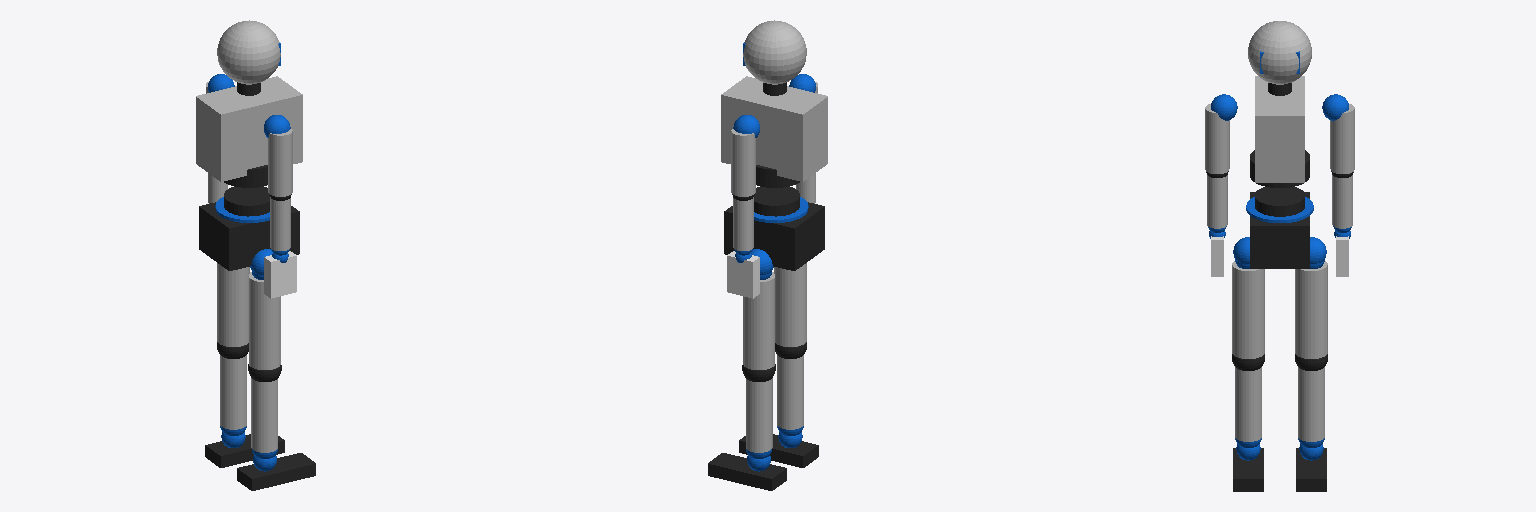
robot.urdf — simple_humanoid:
<?xml version="1.0"?>
<!--
  simple_humanoid — lightweight primitive-geometry humanoid robot
  Structure mirrors Unitree G1: pelvis → legs(6-DOF×2) → waist(2-DOF) → torso → arms(6-DOF×2) → head
  Uses only box / cylinder / sphere primitives — no external mesh files.
  ~27 revolute joints, ~1.62 m standing height (ROS z-up convention).
-->
<robot name="simple_humanoid">

  <!-- ================================================================== -->
  <!-- MATERIALS                                                            -->
  <!-- ================================================================== -->
  <material name="dark">   <color rgba="0.20 0.20 0.20 1.0"/></material>
  <material name="silver"> <color rgba="0.75 0.75 0.75 1.0"/></material>
  <material name="blue">   <color rgba="0.10 0.45 0.85 1.0"/></material>
  <material name="white">  <color rgba="0.92 0.92 0.92 1.0"/></material>
  <material name="red">    <color rgba="0.85 0.20 0.20 1.0"/></material>

  <!-- ================================================================== -->
  <!-- ROOT: PELVIS                                                         -->
  <!-- ================================================================== -->
  <link name="pelvis">
    <inertial>
      <origin xyz="0 0 0" rpy="0 0 0"/>
      <mass value="4.5"/>
      <inertia ixx="0.012" ixy="0" ixz="0" iyy="0.011" iyz="0" izz="0.010"/>
    </inertial>
    <visual>
      <origin xyz="0 0 0" rpy="0 0 0"/>
      <geometry><box size="0.24 0.18 0.14"/></geometry>
      <material name="dark"/>
    </visual>
    <collision>
      <origin xyz="0 0 0"/>
      <geometry><box size="0.24 0.18 0.14"/></geometry>
    </collision>
  </link>

  <!-- pelvis decorative band (fixed) -->
  <link name="pelvis_contour_link">
    <inertial><origin xyz="0 0 0"/><mass value="0.001"/>
      <inertia ixx="1e-7" ixy="0" ixz="0" iyy="1e-7" iyz="0" izz="1e-7"/>
    </inertial>
    <visual>
      <origin xyz="0 0 0.075" rpy="0 0 0"/>
      <geometry><cylinder radius="0.10" length="0.01"/></geometry>
      <material name="blue"/>
    </visual>
  </link>
  <joint name="pelvis_contour_joint" type="fixed">
    <parent link="pelvis"/><child link="pelvis_contour_link"/>
  </joint>

  <!-- ================================================================== -->
  <!-- LEFT LEG                                                             -->
  <!-- ================================================================== -->

  <!-- hip pitch -->
  <link name="left_hip_pitch_link">
    <inertial><origin xyz="0 0 0"/><mass value="0.8"/>
      <inertia ixx="5e-4" ixy="0" ixz="0" iyy="5e-4" iyz="0" izz="5e-4"/>
    </inertial>
    <visual>
      <origin xyz="0 0 0" rpy="0 0 0"/>
      <geometry><sphere radius="0.045"/></geometry>
      <material name="blue"/>
    </visual>
  </link>
  <joint name="left_hip_pitch_joint" type="revolute">
    <origin xyz="0 0.093 -0.07" rpy="0 0 0"/>
    <parent link="pelvis"/><child link="left_hip_pitch_link"/>
    <axis xyz="0 1 0"/>
    <limit lower="-2.53" upper="2.88" effort="88" velocity="32"/>
  </joint>

  <!-- hip roll -->
  <link name="left_hip_roll_link">
    <inertial><origin xyz="0 0 0"/><mass value="0.6"/>
      <inertia ixx="3e-4" ixy="0" ixz="0" iyy="3e-4" iyz="0" izz="3e-4"/>
    </inertial>
    <visual>
      <origin xyz="0 0 0" rpy="0 0 0"/>
      <geometry><sphere radius="0.040"/></geometry>
      <material name="blue"/>
    </visual>
  </link>
  <joint name="left_hip_roll_joint" type="revolute">
    <origin xyz="0 0 -0.02" rpy="0 0 0"/>
    <parent link="left_hip_pitch_link"/><child link="left_hip_roll_link"/>
    <axis xyz="1 0 0"/>
    <limit lower="-0.52" upper="2.35" effort="88" velocity="32"/>
  </joint>

  <!-- hip yaw + thigh cylinder -->
  <link name="left_hip_yaw_link">
    <inertial><origin xyz="0 0 -0.14"/><mass value="1.5"/>
      <inertia ixx="0.0022" ixy="0" ixz="0" iyy="0.0022" iyz="0" izz="5e-4"/>
    </inertial>
    <visual>
      <origin xyz="0 0 -0.15" rpy="0 0 0"/>
      <geometry><cylinder radius="0.048" length="0.30"/></geometry>
      <material name="silver"/>
    </visual>
  </link>
  <joint name="left_hip_yaw_joint" type="revolute">
    <origin xyz="0 0 -0.02" rpy="0 0 0"/>
    <parent link="left_hip_roll_link"/><child link="left_hip_yaw_link"/>
    <axis xyz="0 0 1"/>
    <limit lower="-2.75" upper="2.75" effort="50" velocity="32"/>
  </joint>

  <!-- knee + shin cylinder -->
  <link name="left_knee_link">
    <inertial><origin xyz="0 0 -0.13"/><mass value="1.2"/>
      <inertia ixx="0.0018" ixy="0" ixz="0" iyy="0.0018" iyz="0" izz="3e-4"/>
    </inertial>
    <visual>
      <!-- knee sphere -->
      <origin xyz="0 0 0"/>
      <geometry><sphere radius="0.050"/></geometry>
      <material name="dark"/>
    </visual>
    <visual>
      <!-- shin cylinder -->
      <origin xyz="0 0 -0.13" rpy="0 0 0"/>
      <geometry><cylinder radius="0.040" length="0.26"/></geometry>
      <material name="silver"/>
    </visual>
  </link>
  <joint name="left_knee_joint" type="revolute">
    <origin xyz="0 0 -0.30" rpy="0 0 0"/>
    <parent link="left_hip_yaw_link"/><child link="left_knee_link"/>
    <axis xyz="0 1 0"/>
    <limit lower="-0.09" upper="2.82" effort="139" velocity="20"/>
  </joint>

  <!-- ankle pitch -->
  <link name="left_ankle_pitch_link">
    <inertial><origin xyz="0 0 0"/><mass value="0.4"/>
      <inertia ixx="2e-4" ixy="0" ixz="0" iyy="2e-4" iyz="0" izz="2e-4"/>
    </inertial>
    <visual>
      <origin xyz="0 0 0"/>
      <geometry><sphere radius="0.040"/></geometry>
      <material name="blue"/>
    </visual>
  </link>
  <joint name="left_ankle_pitch_joint" type="revolute">
    <origin xyz="0 0 -0.26" rpy="0 0 0"/>
    <parent link="left_knee_link"/><child link="left_ankle_pitch_link"/>
    <axis xyz="0 1 0"/>
    <limit lower="-0.87" upper="0.52" effort="50" velocity="20"/>
  </joint>

  <!-- ankle roll + foot -->
  <link name="left_ankle_roll_link">
    <inertial><origin xyz="0.05 0 -0.04"/><mass value="0.35"/>
      <inertia ixx="2e-4" ixy="0" ixz="0" iyy="3e-4" iyz="0" izz="2e-4"/>
    </inertial>
    <visual>
      <!-- ankle joint -->
      <origin xyz="0 0 0"/>
      <geometry><sphere radius="0.036"/></geometry>
      <material name="blue"/>
    </visual>
    <visual>
      <!-- foot plate -->
      <origin xyz="0.04 0 -0.05" rpy="0 0 0"/>
      <geometry><box size="0.22 0.09 0.04"/></geometry>
      <material name="dark"/>
    </visual>
  </link>
  <joint name="left_ankle_roll_joint" type="revolute">
    <origin xyz="0 0 -0.04" rpy="0 0 0"/>
    <parent link="left_ankle_pitch_link"/><child link="left_ankle_roll_link"/>
    <axis xyz="1 0 0"/>
    <limit lower="-0.26" upper="0.26" effort="20" velocity="20"/>
  </joint>

  <!-- ================================================================== -->
  <!-- RIGHT LEG (mirror of left, y negated)                               -->
  <!-- ================================================================== -->

  <link name="right_hip_pitch_link">
    <inertial><origin xyz="0 0 0"/><mass value="0.8"/>
      <inertia ixx="5e-4" ixy="0" ixz="0" iyy="5e-4" iyz="0" izz="5e-4"/>
    </inertial>
    <visual><origin xyz="0 0 0"/><geometry><sphere radius="0.045"/></geometry><material name="blue"/></visual>
  </link>
  <joint name="right_hip_pitch_joint" type="revolute">
    <origin xyz="0 -0.093 -0.07" rpy="0 0 0"/>
    <parent link="pelvis"/><child link="right_hip_pitch_link"/>
    <axis xyz="0 1 0"/>
    <limit lower="-2.53" upper="2.88" effort="88" velocity="32"/>
  </joint>

  <link name="right_hip_roll_link">
    <inertial><origin xyz="0 0 0"/><mass value="0.6"/>
      <inertia ixx="3e-4" ixy="0" ixz="0" iyy="3e-4" iyz="0" izz="3e-4"/>
    </inertial>
    <visual><origin xyz="0 0 0"/><geometry><sphere radius="0.040"/></geometry><material name="blue"/></visual>
  </link>
  <joint name="right_hip_roll_joint" type="revolute">
    <origin xyz="0 0 -0.02" rpy="0 0 0"/>
    <parent link="right_hip_pitch_link"/><child link="right_hip_roll_link"/>
    <axis xyz="1 0 0"/>
    <limit lower="-2.35" upper="0.52" effort="88" velocity="32"/>
  </joint>

  <link name="right_hip_yaw_link">
    <inertial><origin xyz="0 0 -0.14"/><mass value="1.5"/>
      <inertia ixx="0.0022" ixy="0" ixz="0" iyy="0.0022" iyz="0" izz="5e-4"/>
    </inertial>
    <visual>
      <origin xyz="0 0 -0.15" rpy="0 0 0"/>
      <geometry><cylinder radius="0.048" length="0.30"/></geometry>
      <material name="silver"/>
    </visual>
  </link>
  <joint name="right_hip_yaw_joint" type="revolute">
    <origin xyz="0 0 -0.02" rpy="0 0 0"/>
    <parent link="right_hip_roll_link"/><child link="right_hip_yaw_link"/>
    <axis xyz="0 0 1"/>
    <limit lower="-2.75" upper="2.75" effort="50" velocity="32"/>
  </joint>

  <link name="right_knee_link">
    <inertial><origin xyz="0 0 -0.13"/><mass value="1.2"/>
      <inertia ixx="0.0018" ixy="0" ixz="0" iyy="0.0018" iyz="0" izz="3e-4"/>
    </inertial>
    <visual><origin xyz="0 0 0"/><geometry><sphere radius="0.050"/></geometry><material name="dark"/></visual>
    <visual>
      <origin xyz="0 0 -0.13" rpy="0 0 0"/>
      <geometry><cylinder radius="0.040" length="0.26"/></geometry>
      <material name="silver"/>
    </visual>
  </link>
  <joint name="right_knee_joint" type="revolute">
    <origin xyz="0 0 -0.30" rpy="0 0 0"/>
    <parent link="right_hip_yaw_link"/><child link="right_knee_link"/>
    <axis xyz="0 1 0"/>
    <limit lower="-0.09" upper="2.82" effort="139" velocity="20"/>
  </joint>

  <link name="right_ankle_pitch_link">
    <inertial><origin xyz="0 0 0"/><mass value="0.4"/>
      <inertia ixx="2e-4" ixy="0" ixz="0" iyy="2e-4" iyz="0" izz="2e-4"/>
    </inertial>
    <visual><origin xyz="0 0 0"/><geometry><sphere radius="0.040"/></geometry><material name="blue"/></visual>
  </link>
  <joint name="right_ankle_pitch_joint" type="revolute">
    <origin xyz="0 0 -0.26" rpy="0 0 0"/>
    <parent link="right_knee_link"/><child link="right_ankle_pitch_link"/>
    <axis xyz="0 1 0"/>
    <limit lower="-0.87" upper="0.52" effort="50" velocity="20"/>
  </joint>

  <link name="right_ankle_roll_link">
    <inertial><origin xyz="0.05 0 -0.04"/><mass value="0.35"/>
      <inertia ixx="2e-4" ixy="0" ixz="0" iyy="3e-4" iyz="0" izz="2e-4"/>
    </inertial>
    <visual><origin xyz="0 0 0"/><geometry><sphere radius="0.036"/></geometry><material name="blue"/></visual>
    <visual>
      <origin xyz="0.04 0 -0.05" rpy="0 0 0"/>
      <geometry><box size="0.22 0.09 0.04"/></geometry>
      <material name="dark"/>
    </visual>
  </link>
  <joint name="right_ankle_roll_joint" type="revolute">
    <origin xyz="0 0 -0.04" rpy="0 0 0"/>
    <parent link="right_ankle_pitch_link"/><child link="right_ankle_roll_link"/>
    <axis xyz="1 0 0"/>
    <limit lower="-0.26" upper="0.26" effort="20" velocity="20"/>
  </joint>

  <!-- ================================================================== -->
  <!-- WAIST → TORSO                                                        -->
  <!-- ================================================================== -->

  <link name="waist_yaw_link">
    <inertial><origin xyz="0 0 0"/><mass value="1.0"/>
      <inertia ixx="6e-4" ixy="0" ixz="0" iyy="6e-4" iyz="0" izz="5e-4"/>
    </inertial>
    <visual>
      <origin xyz="0 0 0" rpy="0 0 0"/>
      <geometry><cylinder radius="0.075" length="0.07"/></geometry>
      <material name="dark"/>
    </visual>
  </link>
  <joint name="waist_yaw_joint" type="revolute">
    <origin xyz="0 0 0.08" rpy="0 0 0"/>
    <parent link="pelvis"/><child link="waist_yaw_link"/>
    <axis xyz="0 0 1"/>
    <limit lower="-2.62" upper="2.62" effort="88" velocity="32"/>
  </joint>

  <link name="torso_link">
    <inertial><origin xyz="0 0 0.14"/><mass value="5.5"/>
      <inertia ixx="0.035" ixy="0" ixz="0" iyy="0.030" iyz="0" izz="0.012"/>
    </inertial>
    <visual>
      <!-- lower chest -->
      <origin xyz="0 0 0.07" rpy="0 0 0"/>
      <geometry><cylinder radius="0.09" length="0.06"/></geometry>
      <material name="dark"/>
    </visual>
    <visual>
      <!-- chest body -->
      <origin xyz="0 0 0.19" rpy="0 0 0"/>
      <geometry><box size="0.28 0.15 0.22"/></geometry>
      <material name="silver"/>
    </visual>
    <visual>
      <!-- chest front panel accent -->
      <origin xyz="0.09 0 0.20" rpy="0 1.5708 0"/>
      <geometry><box size="0.16 0.10 0.01"/></geometry>
      <material name="blue"/>
    </visual>
  </link>
  <joint name="waist_roll_joint" type="revolute">
    <origin xyz="0 0 0.06" rpy="0 0 0"/>
    <parent link="waist_yaw_link"/><child link="torso_link"/>
    <axis xyz="1 0 0"/>
    <limit lower="-0.52" upper="0.52" effort="88" velocity="32"/>
  </joint>

  <!-- ================================================================== -->
  <!-- HEAD                                                                 -->
  <!-- ================================================================== -->

  <link name="head_link">
    <inertial><origin xyz="0 0 0.04"/><mass value="1.2"/>
      <inertia ixx="5e-3" ixy="0" ixz="0" iyy="5e-3" iyz="0" izz="4e-3"/>
    </inertial>
    <visual>
      <!-- neck -->
      <origin xyz="0 0 0.03" rpy="0 0 0"/>
      <geometry><cylinder radius="0.035" length="0.07"/></geometry>
      <material name="dark"/>
    </visual>
    <visual>
      <!-- head sphere -->
      <origin xyz="0 0 0.12" rpy="0 0 0"/>
      <geometry><sphere radius="0.095"/></geometry>
      <material name="silver"/>
    </visual>
    <visual>
      <!-- visor / face -->
      <origin xyz="0.07 0 0.12" rpy="0 1.5708 0"/>
      <geometry><box size="0.07 0.12 0.01"/></geometry>
      <material name="blue"/>
    </visual>
  </link>
  <joint name="head_joint" type="revolute">
    <origin xyz="0 0 0.32" rpy="0 0 0"/>
    <parent link="torso_link"/><child link="head_link"/>
    <axis xyz="0 0 1"/>
    <limit lower="-1.57" upper="1.57" effort="5" velocity="5"/>
  </joint>

  <!-- ================================================================== -->
  <!-- LEFT ARM                                                             -->
  <!-- ================================================================== -->

  <link name="left_shoulder_pitch_link">
    <inertial><origin xyz="0 0 0"/><mass value="0.5"/>
      <inertia ixx="2e-4" ixy="0" ixz="0" iyy="2e-4" iyz="0" izz="2e-4"/>
    </inertial>
    <visual><origin xyz="0 0 0"/><geometry><sphere radius="0.040"/></geometry><material name="blue"/></visual>
  </link>
  <joint name="left_shoulder_pitch_joint" type="revolute">
    <origin xyz="0 0.165 0.26" rpy="0 0 0"/>
    <parent link="torso_link"/><child link="left_shoulder_pitch_link"/>
    <axis xyz="0 1 0"/>
    <limit lower="-3.14" upper="2.53" effort="25" velocity="37"/>
  </joint>

  <link name="left_shoulder_roll_link">
    <inertial><origin xyz="0 0 0"/><mass value="0.5"/>
      <inertia ixx="2e-4" ixy="0" ixz="0" iyy="2e-4" iyz="0" izz="2e-4"/>
    </inertial>
    <visual><origin xyz="0 0 0"/><geometry><sphere radius="0.038"/></geometry><material name="blue"/></visual>
  </link>
  <joint name="left_shoulder_roll_joint" type="revolute">
    <origin xyz="0 0 0" rpy="0 0 0"/>
    <parent link="left_shoulder_pitch_link"/><child link="left_shoulder_roll_link"/>
    <axis xyz="1 0 0"/>
    <limit lower="-1.57" upper="2.87" effort="25" velocity="37"/>
  </joint>

  <!-- shoulder yaw + upper arm -->
  <link name="left_shoulder_yaw_link">
    <inertial><origin xyz="0 0 -0.10"/><mass value="0.8"/>
      <inertia ixx="8e-4" ixy="0" ixz="0" iyy="8e-4" iyz="0" izz="2e-4"/>
    </inertial>
    <visual>
      <origin xyz="0 0 -0.10" rpy="0 0 0"/>
      <geometry><cylinder radius="0.036" length="0.20"/></geometry>
      <material name="silver"/>
    </visual>
  </link>
  <joint name="left_shoulder_yaw_joint" type="revolute">
    <origin xyz="0 0.02 0" rpy="0 0 0"/>
    <parent link="left_shoulder_roll_link"/><child link="left_shoulder_yaw_link"/>
    <axis xyz="0 0 1"/>
    <limit lower="-2.87" upper="2.87" effort="25" velocity="37"/>
  </joint>

  <!-- elbow + forearm -->
  <link name="left_elbow_link">
    <inertial><origin xyz="0 0 -0.09"/><mass value="0.6"/>
      <inertia ixx="5e-4" ixy="0" ixz="0" iyy="5e-4" iyz="0" izz="1e-4"/>
    </inertial>
    <visual>
      <!-- elbow joint sphere -->
      <origin xyz="0 0 0"/>
      <geometry><sphere radius="0.034"/></geometry>
      <material name="dark"/>
    </visual>
    <visual>
      <!-- forearm cylinder -->
      <origin xyz="0 0 -0.09" rpy="0 0 0"/>
      <geometry><cylinder radius="0.030" length="0.18"/></geometry>
      <material name="silver"/>
    </visual>
  </link>
  <joint name="left_elbow_joint" type="revolute">
    <origin xyz="0 0 -0.20" rpy="0 0 0"/>
    <parent link="left_shoulder_yaw_link"/><child link="left_elbow_link"/>
    <axis xyz="0 1 0"/>
    <limit lower="-1.05" upper="2.09" effort="25" velocity="37"/>
  </joint>

  <!-- wrist yaw -->
  <link name="left_wrist_yaw_link">
    <inertial><origin xyz="0 0 0"/><mass value="0.2"/>
      <inertia ixx="1e-4" ixy="0" ixz="0" iyy="1e-4" iyz="0" izz="1e-4"/>
    </inertial>
    <visual><origin xyz="0 0 0"/><geometry><sphere radius="0.028"/></geometry><material name="blue"/></visual>
  </link>
  <joint name="left_wrist_yaw_joint" type="revolute">
    <origin xyz="0 0 -0.18" rpy="0 0 0"/>
    <parent link="left_elbow_link"/><child link="left_wrist_yaw_link"/>
    <axis xyz="0 0 1"/>
    <limit lower="-1.57" upper="1.57" effort="5" velocity="37"/>
  </joint>

  <!-- wrist roll + hand -->
  <link name="left_wrist_roll_link">
    <inertial><origin xyz="0 0 -0.05"/><mass value="0.25"/>
      <inertia ixx="1e-4" ixy="0" ixz="0" iyy="1e-4" iyz="0" izz="1e-4"/>
    </inertial>
    <visual>
      <!-- wrist -->
      <origin xyz="0 0 0"/>
      <geometry><sphere radius="0.025"/></geometry>
      <material name="blue"/>
    </visual>
    <visual>
      <!-- hand plate -->
      <origin xyz="0 0 -0.06" rpy="0 0 0"/>
      <geometry><box size="0.09 0.04 0.12"/></geometry>
      <material name="white"/>
    </visual>
  </link>
  <joint name="left_wrist_roll_joint" type="revolute">
    <origin xyz="0 0 -0.03" rpy="0 0 0"/>
    <parent link="left_wrist_yaw_link"/><child link="left_wrist_roll_link"/>
    <axis xyz="1 0 0"/>
    <limit lower="-1.57" upper="1.57" effort="5" velocity="37"/>
  </joint>

  <!-- ================================================================== -->
  <!-- RIGHT ARM (mirror: y negated, axis signs flipped where needed)      -->
  <!-- ================================================================== -->

  <link name="right_shoulder_pitch_link">
    <inertial><origin xyz="0 0 0"/><mass value="0.5"/>
      <inertia ixx="2e-4" ixy="0" ixz="0" iyy="2e-4" iyz="0" izz="2e-4"/>
    </inertial>
    <visual><origin xyz="0 0 0"/><geometry><sphere radius="0.040"/></geometry><material name="blue"/></visual>
  </link>
  <joint name="right_shoulder_pitch_joint" type="revolute">
    <origin xyz="0 -0.165 0.26" rpy="0 0 0"/>
    <parent link="torso_link"/><child link="right_shoulder_pitch_link"/>
    <axis xyz="0 1 0"/>
    <limit lower="-3.14" upper="2.53" effort="25" velocity="37"/>
  </joint>

  <link name="right_shoulder_roll_link">
    <inertial><origin xyz="0 0 0"/><mass value="0.5"/>
      <inertia ixx="2e-4" ixy="0" ixz="0" iyy="2e-4" iyz="0" izz="2e-4"/>
    </inertial>
    <visual><origin xyz="0 0 0"/><geometry><sphere radius="0.038"/></geometry><material name="blue"/></visual>
  </link>
  <joint name="right_shoulder_roll_joint" type="revolute">
    <origin xyz="0 0 0" rpy="0 0 0"/>
    <parent link="right_shoulder_pitch_link"/><child link="right_shoulder_roll_link"/>
    <axis xyz="1 0 0"/>
    <limit lower="-2.87" upper="1.57" effort="25" velocity="37"/>
  </joint>

  <link name="right_shoulder_yaw_link">
    <inertial><origin xyz="0 0 -0.10"/><mass value="0.8"/>
      <inertia ixx="8e-4" ixy="0" ixz="0" iyy="8e-4" iyz="0" izz="2e-4"/>
    </inertial>
    <visual>
      <origin xyz="0 0 -0.10" rpy="0 0 0"/>
      <geometry><cylinder radius="0.036" length="0.20"/></geometry>
      <material name="silver"/>
    </visual>
  </link>
  <joint name="right_shoulder_yaw_joint" type="revolute">
    <origin xyz="0 -0.02 0" rpy="0 0 0"/>
    <parent link="right_shoulder_roll_link"/><child link="right_shoulder_yaw_link"/>
    <axis xyz="0 0 1"/>
    <limit lower="-2.87" upper="2.87" effort="25" velocity="37"/>
  </joint>

  <link name="right_elbow_link">
    <inertial><origin xyz="0 0 -0.09"/><mass value="0.6"/>
      <inertia ixx="5e-4" ixy="0" ixz="0" iyy="5e-4" iyz="0" izz="1e-4"/>
    </inertial>
    <visual><origin xyz="0 0 0"/><geometry><sphere radius="0.034"/></geometry><material name="dark"/></visual>
    <visual>
      <origin xyz="0 0 -0.09" rpy="0 0 0"/>
      <geometry><cylinder radius="0.030" length="0.18"/></geometry>
      <material name="silver"/>
    </visual>
  </link>
  <joint name="right_elbow_joint" type="revolute">
    <origin xyz="0 0 -0.20" rpy="0 0 0"/>
    <parent link="right_shoulder_yaw_link"/><child link="right_elbow_link"/>
    <axis xyz="0 1 0"/>
    <limit lower="-1.05" upper="2.09" effort="25" velocity="37"/>
  </joint>

  <link name="right_wrist_yaw_link">
    <inertial><origin xyz="0 0 0"/><mass value="0.2"/>
      <inertia ixx="1e-4" ixy="0" ixz="0" iyy="1e-4" iyz="0" izz="1e-4"/>
    </inertial>
    <visual><origin xyz="0 0 0"/><geometry><sphere radius="0.028"/></geometry><material name="blue"/></visual>
  </link>
  <joint name="right_wrist_yaw_joint" type="revolute">
    <origin xyz="0 0 -0.18" rpy="0 0 0"/>
    <parent link="right_elbow_link"/><child link="right_wrist_yaw_link"/>
    <axis xyz="0 0 1"/>
    <limit lower="-1.57" upper="1.57" effort="5" velocity="37"/>
  </joint>

  <link name="right_wrist_roll_link">
    <inertial><origin xyz="0 0 -0.05"/><mass value="0.25"/>
      <inertia ixx="1e-4" ixy="0" ixz="0" iyy="1e-4" iyz="0" izz="1e-4"/>
    </inertial>
    <visual><origin xyz="0 0 0"/><geometry><sphere radius="0.025"/></geometry><material name="blue"/></visual>
    <visual>
      <origin xyz="0 0 -0.06" rpy="0 0 0"/>
      <geometry><box size="0.09 0.04 0.12"/></geometry>
      <material name="white"/>
    </visual>
  </link>
  <joint name="right_wrist_roll_joint" type="revolute">
    <origin xyz="0 0 -0.03" rpy="0 0 0"/>
    <parent link="right_wrist_yaw_link"/><child link="right_wrist_roll_link"/>
    <axis xyz="1 0 0"/>
    <limit lower="-1.57" upper="1.57" effort="5" velocity="37"/>
  </joint>

</robot>

--- Facts derived from the render (not from the file) ---
3 views of the same robot in one strip: view 1: azimuth 30°, elevation 25°; view 2: azimuth 150°, elevation 25°; view 3: azimuth 270°, elevation 25° (orthographic).
Model simple_humanoid with 29 links and 28 joints (27 revolute, 1 fixed), rooted at pelvis, posed every joint at zero.
Links seen in each view (by area): view 1: torso_link, pelvis, head_link, right_hip_yaw_link, left_hip_yaw_link, right_knee_link, left_knee_link, right_ankle_roll_link, right_shoulder_yaw_link, right_wrist_roll_link, left_ankle_roll_link, waist_yaw_link (+1 smaller); view 2: torso_link, pelvis, head_link, left_hip_yaw_link, right_hip_yaw_link, left_knee_link, right_knee_link, left_ankle_roll_link, left_shoulder_yaw_link, left_wrist_roll_link, right_ankle_roll_link, waist_yaw_link (+1 smaller); view 3: torso_link, head_link, left_hip_yaw_link, right_hip_yaw_link, pelvis, left_knee_link, right_knee_link, left_shoulder_yaw_link, right_shoulder_yaw_link, left_ankle_roll_link, right_ankle_roll_link, waist_yaw_link (+5 smaller).
Link boxes in pixels (x1,y1,x2,y2): torso_link: (196, 76, 302, 187); pelvis: (199, 202, 299, 270); head_link: (217, 20, 280, 95); right_hip_yaw_link: (249, 272, 280, 369); left_hip_yaw_link: (217, 263, 249, 346); right_knee_link: (248, 364, 281, 452); left_knee_link: (217, 342, 248, 429); right_ankle_roll_link: (237, 453, 315, 490); right_shoulder_yaw_link: (268, 129, 292, 196); right_wrist_roll_link: (264, 251, 296, 298); left_ankle_roll_link: (205, 432, 284, 467); waist_yaw_link: (224, 186, 269, 216); torso_link: (721, 76, 827, 187); pelvis: (724, 202, 824, 270); head_link: (743, 20, 806, 95); left_hip_yaw_link: (743, 272, 774, 369); right_hip_yaw_link: (774, 263, 806, 346); left_knee_link: (742, 364, 775, 452); right_knee_link: (775, 342, 806, 429); left_ankle_roll_link: (708, 453, 786, 490); left_shoulder_yaw_link: (731, 129, 755, 196); left_wrist_roll_link: (727, 251, 759, 298); right_ankle_roll_link: (739, 432, 818, 467); waist_yaw_link: (754, 186, 799, 216); torso_link: (1250, 76, 1309, 187); head_link: (1248, 21, 1311, 95); left_hip_yaw_link: (1295, 261, 1327, 358); right_hip_yaw_link: (1232, 261, 1264, 358); pelvis: (1250, 192, 1309, 268); left_knee_link: (1295, 354, 1327, 441); right_knee_link: (1232, 354, 1264, 441); left_shoulder_yaw_link: (1330, 104, 1354, 173); right_shoulder_yaw_link: (1205, 104, 1229, 173); left_ankle_roll_link: (1296, 444, 1326, 491); right_ankle_roll_link: (1233, 444, 1263, 491); waist_yaw_link: (1255, 187, 1304, 216).
Size in the robot's own frame: 0.29 by 0.442 by 1.46 metres.
Geometry: primitives only (box / cylinder / sphere), no mesh files.
